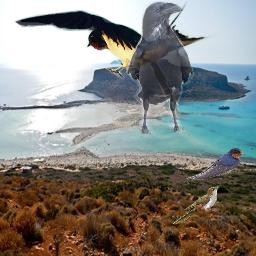Crow: (126, 1, 194, 135)
Cuckoo: (172, 185, 221, 224)
Swallow: (11, 0, 241, 120), (186, 147, 245, 180)
